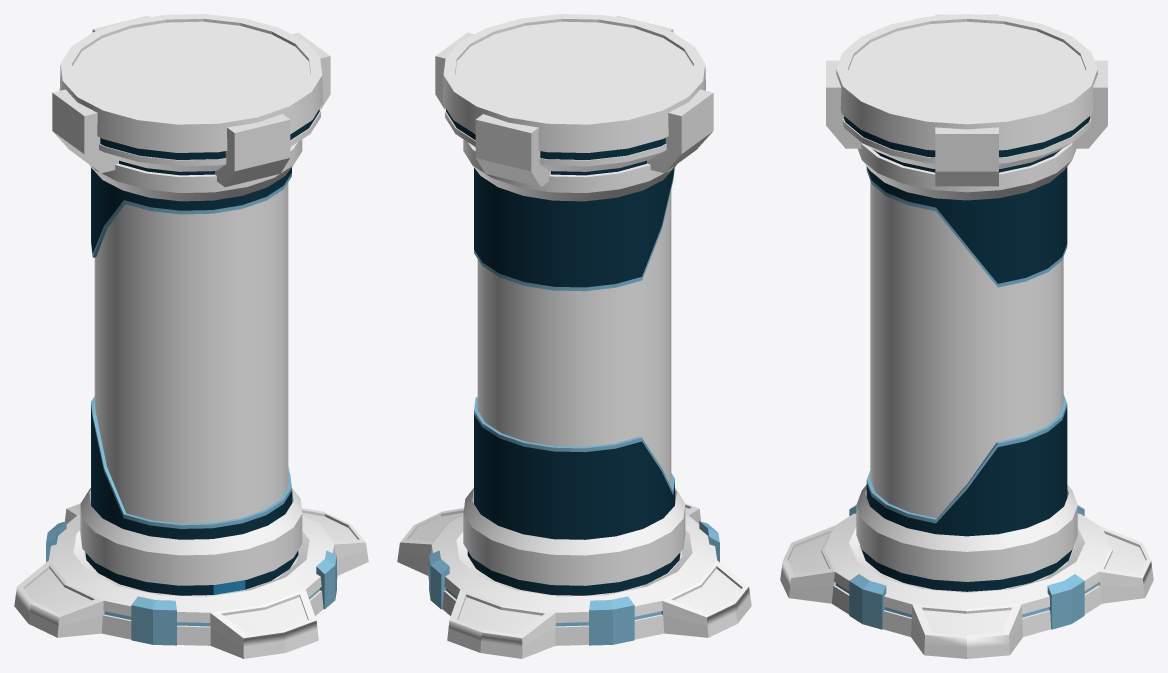
Rendered from Props_Base.003.fbx.
3 renders of one model, left to right at view 1: azimuth 30°, elevation 25°; view 2: azimuth 150°, elevation 25°; view 3: azimuth 270°, elevation 25°, orthographic.
Parts seen in each view (by area): view 1: Props_Base.003; view 2: Props_Base.003; view 3: Props_Base.003.
Part boxes in pixels (x1=…): Props_Base.003: x1=14, y1=14, x2=368, y2=658; Props_Base.003: x1=397, y1=14, x2=751, y2=658; Props_Base.003: x1=780, y1=14, x2=1153, y2=658.
Size of the model in its own units: 2.4 by 3.61 by 2.4.
